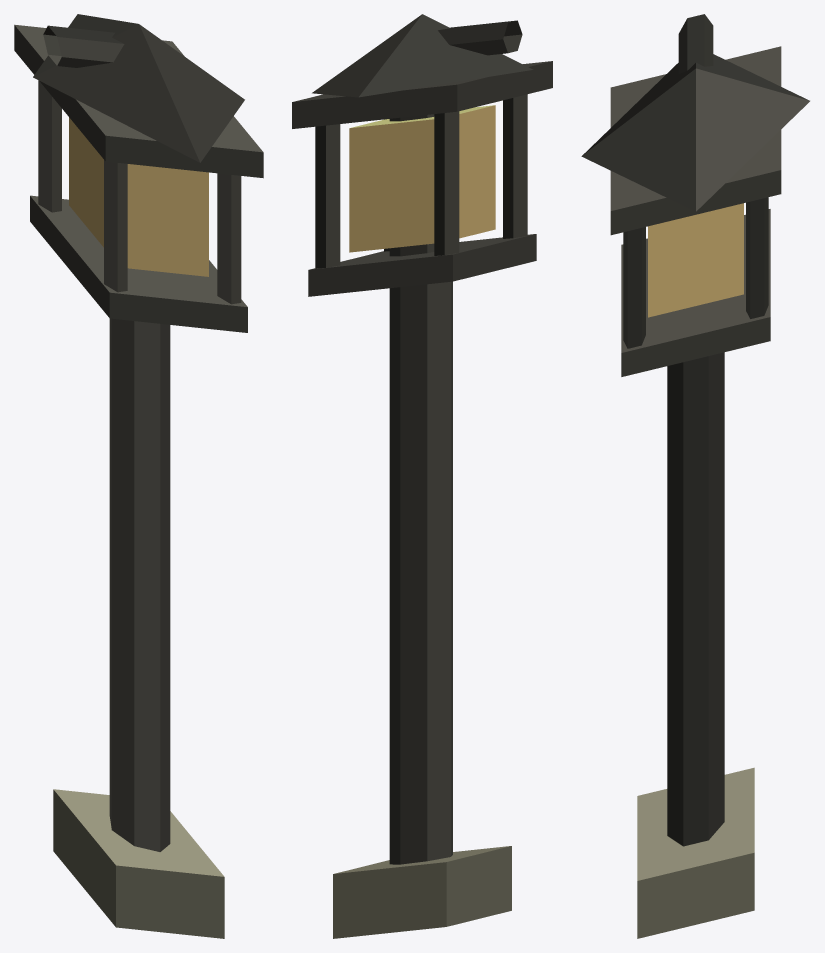
3 renders of one model, left to right at view 1: azimuth 30°, elevation 25°; view 2: azimuth 150°, elevation 25°; view 3: azimuth 270°, elevation 25°, orthographic. The views are drawn at different scales.
Parts seen in each view (by area): view 1: 9791b63986903100309d7b87cab3e7d69936c50202e24c531968420e6b44; view 2: 9791b63986903100309d7b87cab3e7d69936c50202e24c531968420e6b44; view 3: 9791b63986903100309d7b87cab3e7d69936c50202e24c531968420e6b44.
Part boxes in pixels (box(x1,y1,x2,y2)): 9791b63986903100309d7b87cab3e7d69936c50202e24c531968420e6b44: box(14, 14, 263, 938); 9791b63986903100309d7b87cab3e7d69936c50202e24c531968420e6b44: box(292, 14, 552, 938); 9791b63986903100309d7b87cab3e7d69936c50202e24c531968420e6b44: box(581, 14, 809, 938).
Bounding box in the file's own units: 0.86 × 3.56 × 0.86.
Materials: 2 (1 with a texture image).
